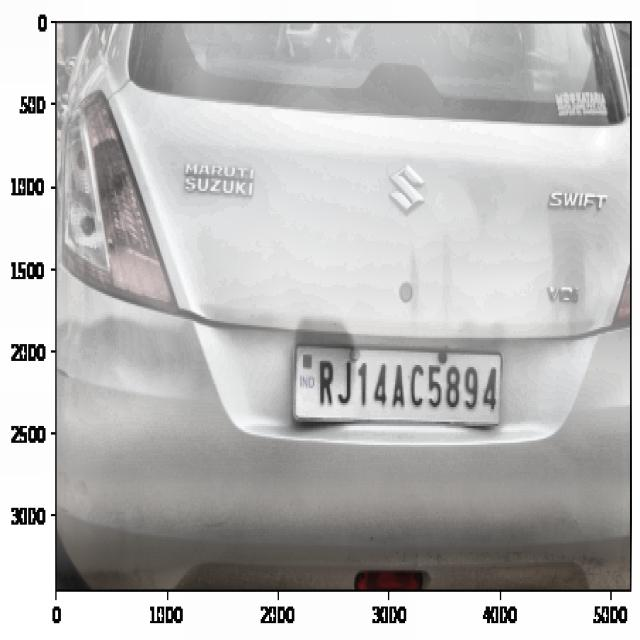license_plate: (309, 351, 502, 421)
